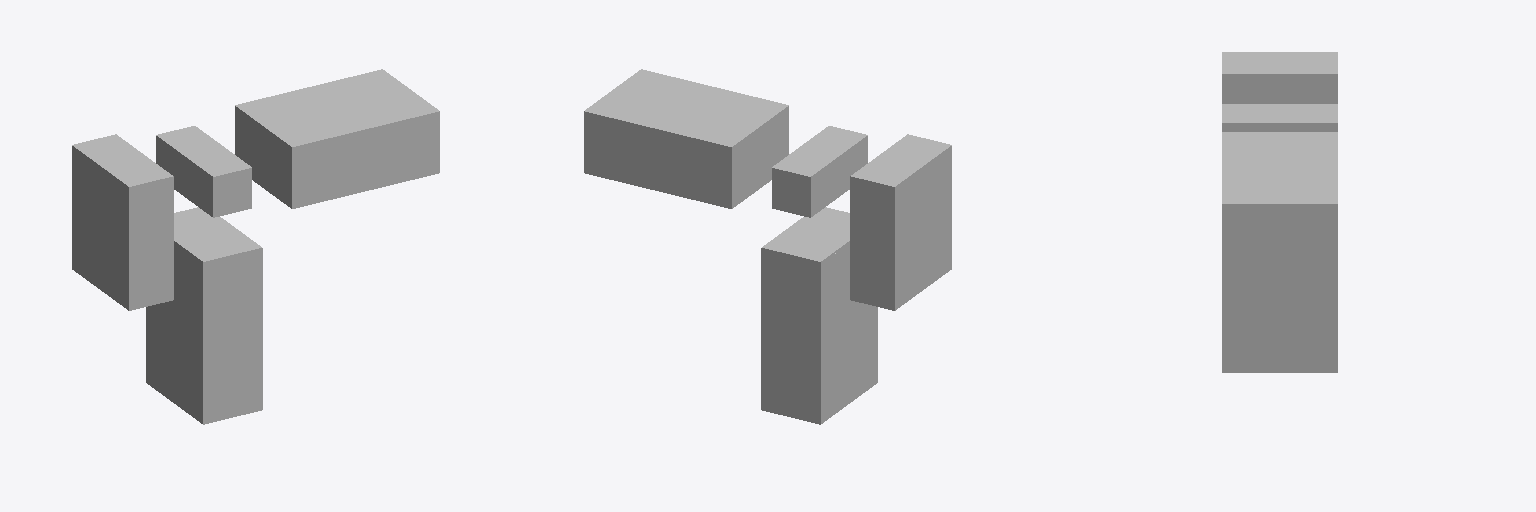
Rendered from U2E_anim6.obj.
3 renders of one model, left to right at view 1: azimuth 30°, elevation 25°; view 2: azimuth 150°, elevation 25°; view 3: azimuth 270°, elevation 25°, orthographic.
Visible parts, largest first — view 1: kulmatalot; view 2: kulmatalot; view 3: kulmatalot.
Boxes of the visible parts, x1,y1,x2,y2 form: kulmatalot: [72, 69, 439, 424]; kulmatalot: [584, 69, 951, 424]; kulmatalot: [1222, 52, 1337, 372].
Bounding box in the file's own units: 82.03 × 64.45 × 26.27.